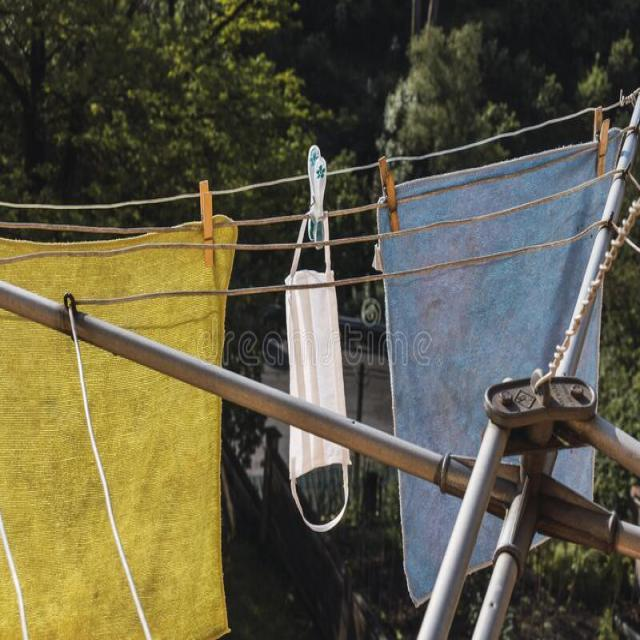clothes: (11, 392, 214, 632), (388, 327, 492, 425), (274, 300, 358, 396)
